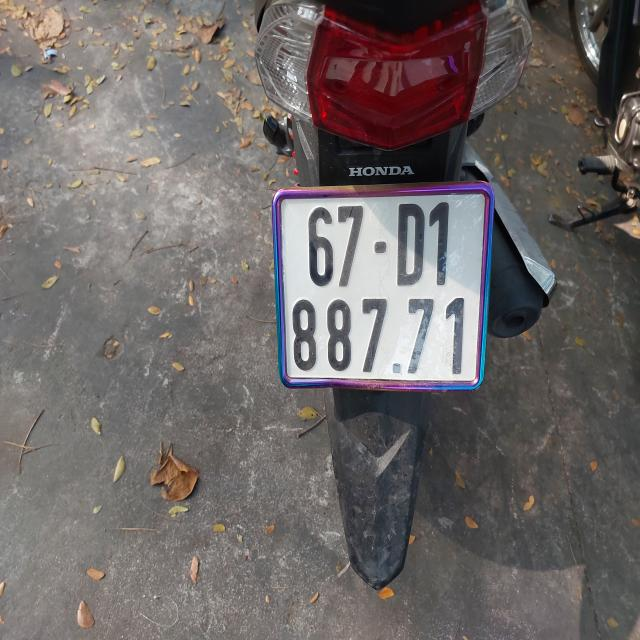1: (430, 201, 456, 287), (442, 294, 469, 372)
6: (309, 205, 333, 291)
7: (406, 296, 436, 382), (335, 200, 363, 291), (360, 295, 386, 379)
8: (322, 298, 352, 370), (292, 296, 318, 373)
D: (394, 202, 424, 286)
